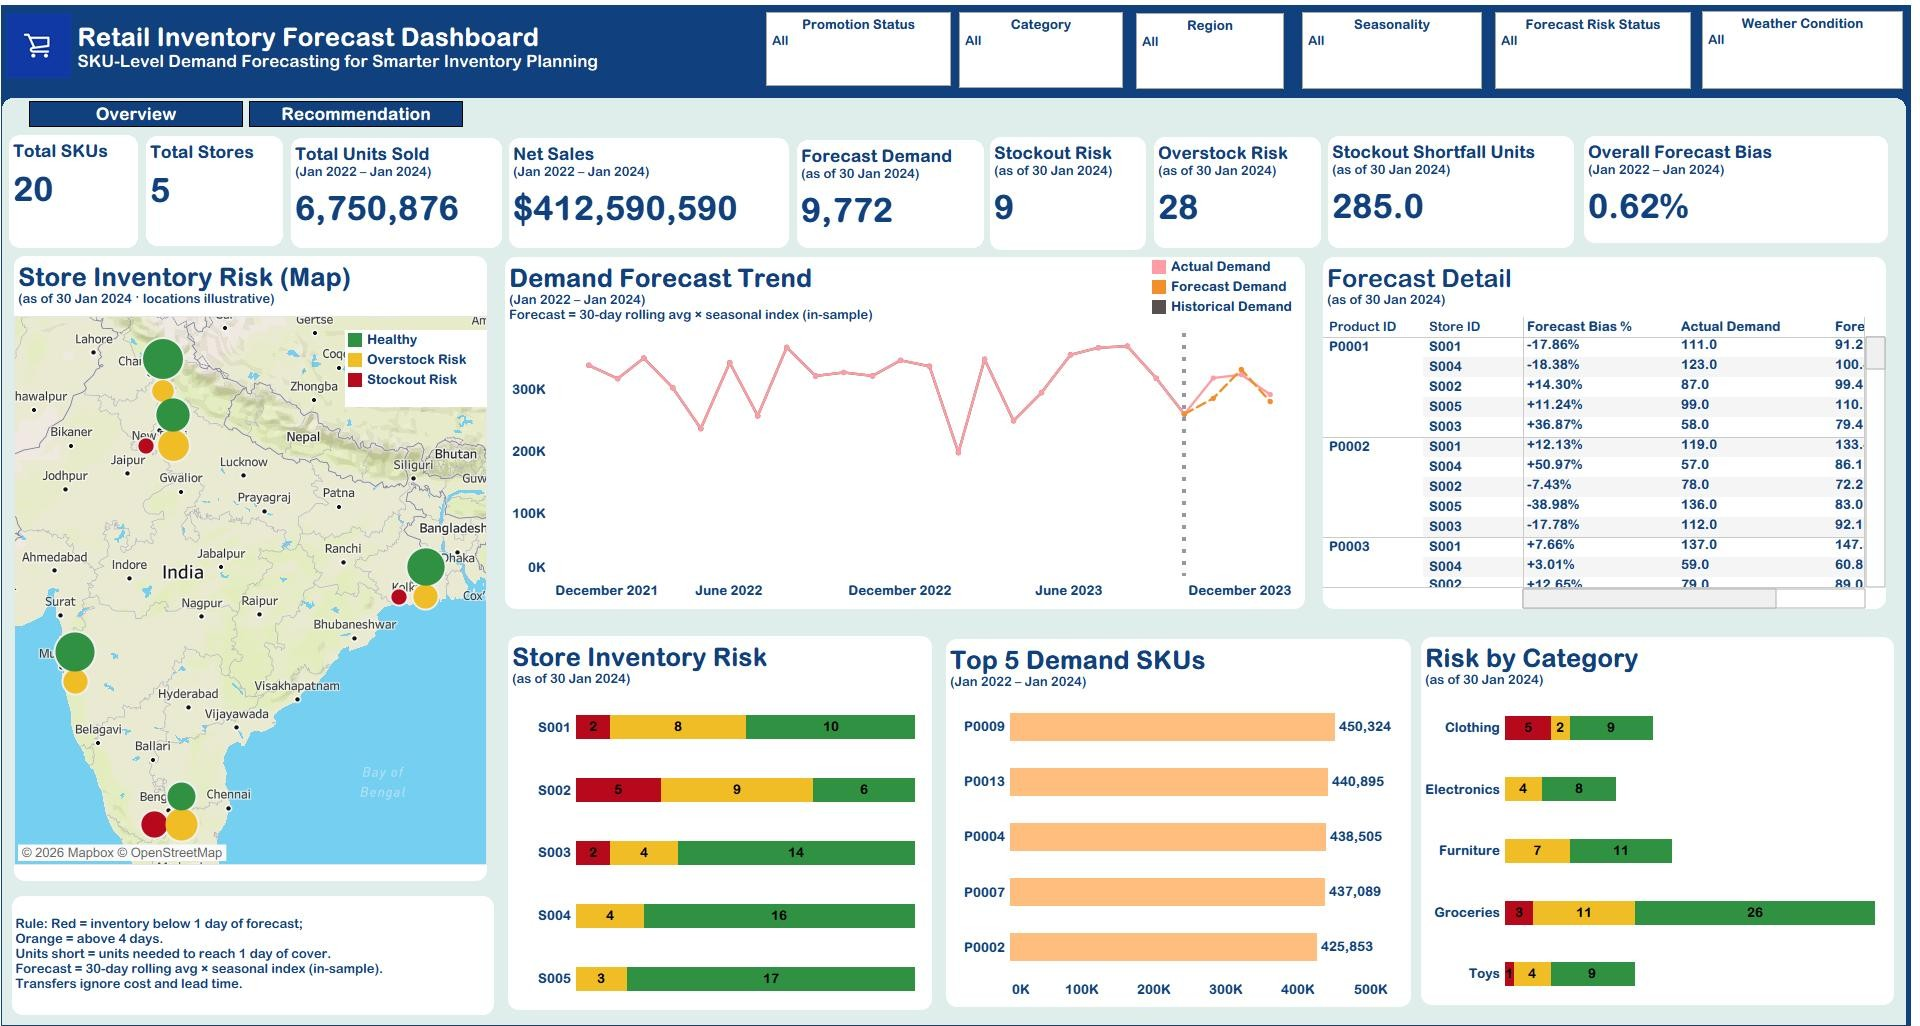

The page's visual inventory and layout, read from the dashboard file:
{"tool":"tableau","page":{"name":"Overview","canvas":[1000,1000],"units":"permille","ordinal":0},"visuals":[{"type":"blank","box":[0.6,4.7,994.6,978.9]},{"type":"image","param":"Image/Cart.jpg","box":[3,9.4,33.8,68.2]},{"type":"filter","title":"Total SKUs","param":"[federated.01nwt6w1y5inbg1a3wxy710sdfyo].[none:Weather Condition:nk]","box":[886.5,10.6,104.4,75.2]},{"type":"text","box":[38.6,11.8,333.7,65.8]},{"type":"filter","title":"Total Units Sold","param":"[federated.01nwt6w1y5inbg1a3wxy710sdfyo].[none:Calculation_1404124623446016:nk]","box":[398.9,11.8,96.6,70.5]},{"type":"filter","title":"Total SKUs","param":"[federated.01nwt6w1y5inbg1a3wxy710sdfyo].[none:Category:nk]","box":[499.7,11.8,85.1,72.9]},{"type":"filter","title":"Total SKUs","param":"[federated.01nwt6w1y5inbg1a3wxy710sdfyo].[none:Seasonality:nk]","box":[678.3,11.8,93.5,74]},{"type":"filter","title":"Total SKUs","param":"[federated.01nwt6w1y5inbg1a3wxy710sdfyo].[none:Calculation_0664428164136963:nk]","box":[778.5,11.8,102,74]},{"type":"filter","title":"Total SKUs","param":"[federated.01nwt6w1y5inbg1a3wxy710sdfyo].[none:Region:nk]","box":[591.4,12.9,77.2,72.9]},{"type":"blank","box":[1.2,94,991.6,888.4]},{"type":"dashboard-object","box":[15.1,96.4,111.7,25.9]},{"type":"dashboard-object","box":[129.8,96.4,111.7,25.9]},{"type":"worksheet","title":"Total SKUs","mark":"Automatic","box":[4.8,129.3,67,108.1]},{"type":"worksheet","title":"Total Stores","mark":"Automatic","box":[76,130.4,71.2,105.8]},{"type":"worksheet","title":"Stockout Shortfall Units","mark":"Automatic","box":[691.6,130.4,127.9,106.9]},{"type":"worksheet","title":"Overall Forecast Bias","mark":"Automatic","box":[825,130.4,158.1,102.2]},{"type":"worksheet","title":"Stockout Risk","mark":"Automatic","box":[515.4,131.6,81.5,108.1]},{"type":"worksheet","title":"Overstock Risk","mark":"Automatic","box":[601.1,131.6,86.9,105.8]},{"type":"worksheet","title":"Total Units Sold","mark":"Automatic","box":[151.5,132.8,109.8,104.6]},{"type":"worksheet","title":"Net Sales","mark":"Automatic","box":[264.9,132.8,146.1,104.6]},{"type":"worksheet","title":"Forecast Demand","mark":"Automatic","box":[415.2,134,97.2,103.4]},{"type":"worksheet","title":"Store Inventory Risk (Map)","mark":"Automatic","rows":["Calculation_0235618656538628"],"cols":["Calculation_0235618656702469"],"box":[7.4,245.6,246.3,599.3]},{"type":"worksheet","title":"Demand Forecast Trend","mark":"Line","rows":["Calculation_0235618658820102"],"cols":["Date"],"box":[263.1,246.8,416.4,337.2]},{"type":"legend","title":"Demand Forecast Trend","param":"[federated.01nwt6w1y5inbg1a3wxy710sdfyo].[:Measure Names]","box":[598.5,246.8,77.9,72.9]},{"type":"worksheet","title":"Forecast Detail","mark":"Automatic","rows":["Product ID","Store ID"],"box":[689.2,246.8,293.3,337.2]},{"type":"legend","title":"Store Inventory Risk (Map)","param":"[federated.01nwt6w1y5inbg1a3wxy710sdfyo].[none:Calculation_0664428164136963:nk]","box":[179.6,316.1,74.2,76.4]},{"type":"worksheet","title":"Store Inventory Risk","mark":"Automatic","rows":["Store ID"],"cols":["Product ID"],"box":[264.3,609.9,220.9,358.4]},{"type":"worksheet","title":"Risk by Category","mark":"Automatic","rows":["Category"],"cols":["Product ID"],"box":[739.9,611.1,246.3,352.5]},{"type":"worksheet","title":"Top 5 Demand SKUs ","mark":"Bar","rows":["Product ID"],"cols":["Demand"],"box":[492.5,612.2,242.6,353.7]},{"type":"text","box":[6,859,251.1,114]}]}

Visuals, with their boxes on the dashboard's canvas, which has no fixed pixel size, in thousandths of its width and height (x1, y1, x2, y2). These are canvas units, not pixel positions in the 1920x1026 screenshot, which may show the page scaled, cropped or inside an application window:
blank: 1, 5, 995, 984
image: 3, 9, 37, 78
"Total SKUs" filter: 886, 11, 991, 86
text: 39, 12, 372, 78
"Total Units Sold" filter: 399, 12, 496, 82
"Total SKUs" filter: 500, 12, 585, 85
"Total SKUs" filter: 678, 12, 772, 86
"Total SKUs" filter: 778, 12, 880, 86
"Total SKUs" filter: 591, 13, 669, 86
blank: 1, 94, 993, 982
dashboard-object: 15, 96, 127, 122
dashboard-object: 130, 96, 242, 122
"Total SKUs" worksheet: 5, 129, 72, 237
"Total Stores" worksheet: 76, 130, 147, 236
"Stockout Shortfall Units" worksheet: 692, 130, 820, 237
"Overall Forecast Bias" worksheet: 825, 130, 983, 233
"Stockout Risk" worksheet: 515, 132, 597, 240
"Overstock Risk" worksheet: 601, 132, 688, 237
"Total Units Sold" worksheet: 152, 133, 261, 237
"Net Sales" worksheet: 265, 133, 411, 237
"Forecast Demand" worksheet: 415, 134, 512, 237
"Store Inventory Risk (Map)" worksheet: 7, 246, 254, 845
"Demand Forecast Trend" worksheet (Line marks): 263, 247, 680, 584
"Demand Forecast Trend" legend: 598, 247, 676, 320
"Forecast Detail" worksheet: 689, 247, 982, 584
"Store Inventory Risk (Map)" legend: 180, 316, 254, 392
"Store Inventory Risk" worksheet: 264, 610, 485, 968
"Risk by Category" worksheet: 740, 611, 986, 964
"Top 5 Demand SKUs " worksheet (Bar marks): 492, 612, 735, 966
text: 6, 859, 257, 973
